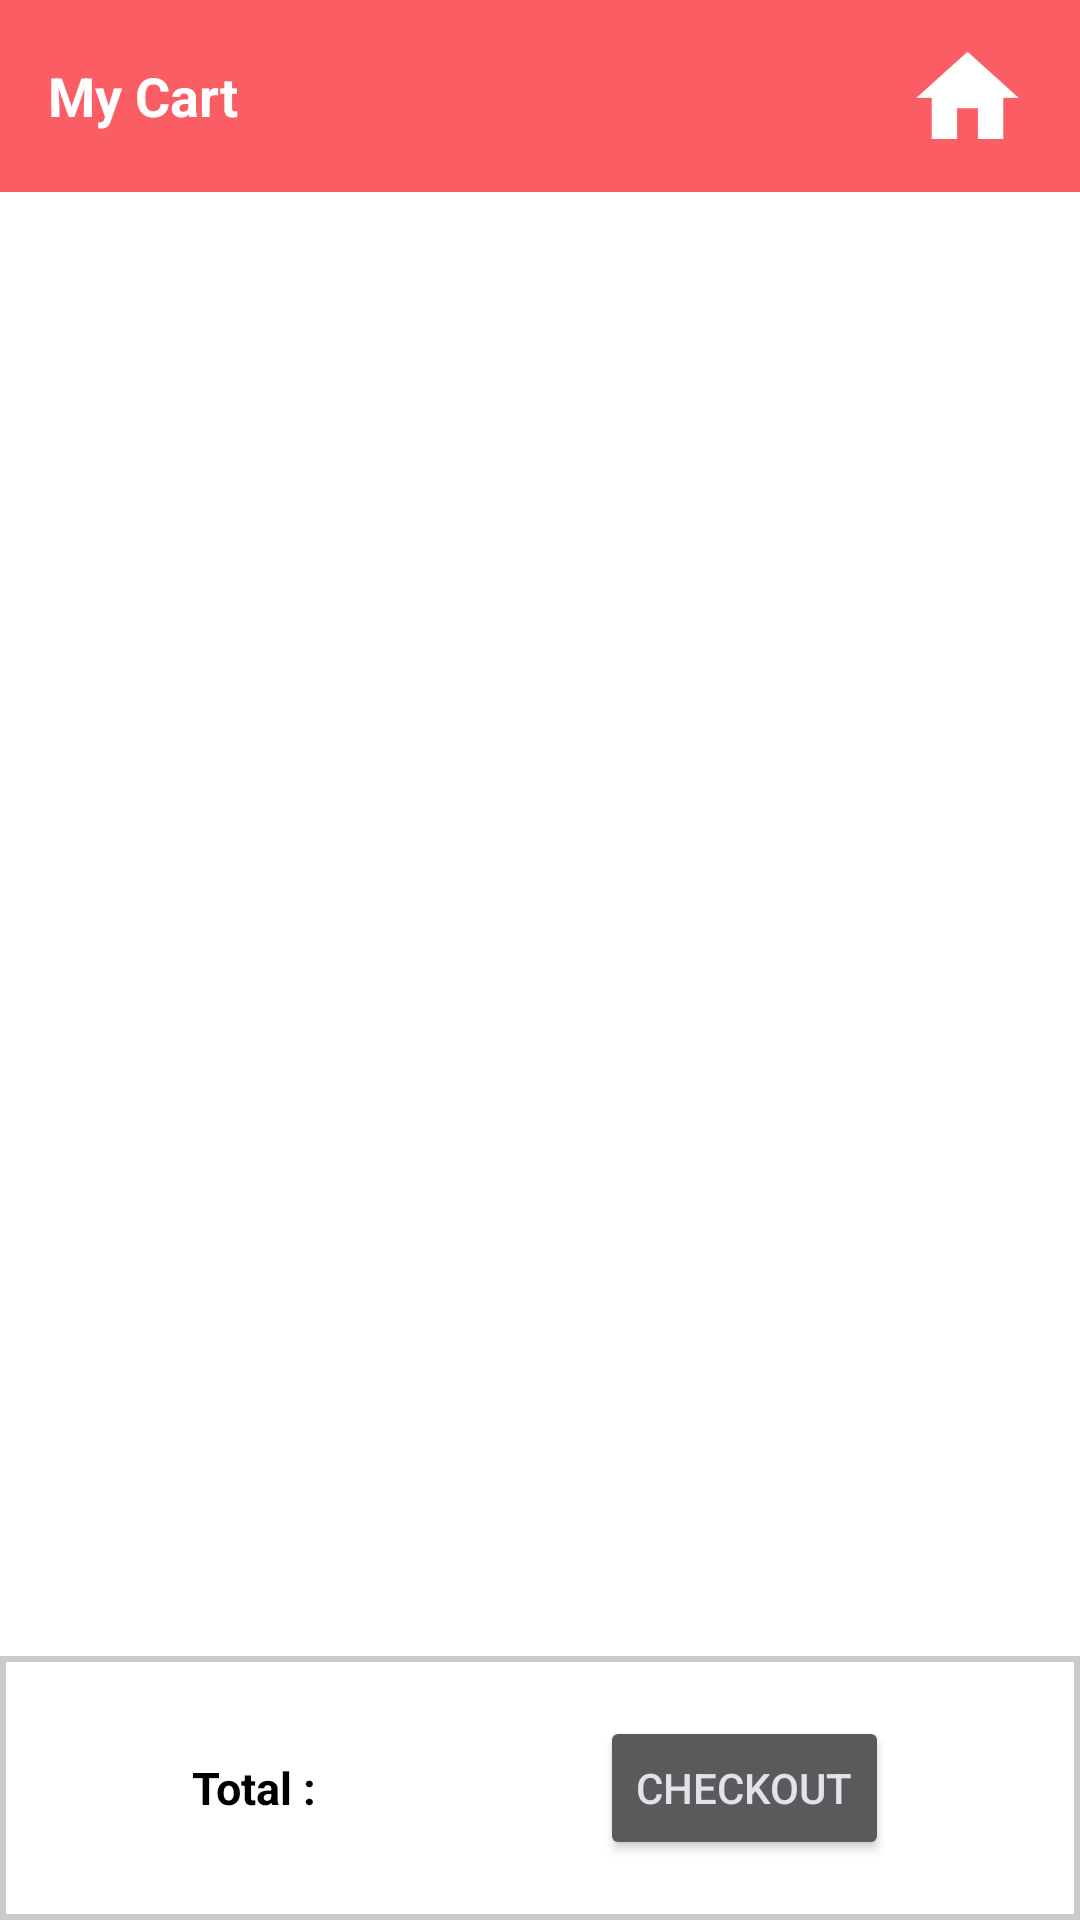

Screen size 1080w x 1920h. Icon name, then its box in pixels as (x1, y1, x2, y2):
home: (916, 52, 1019, 139)
